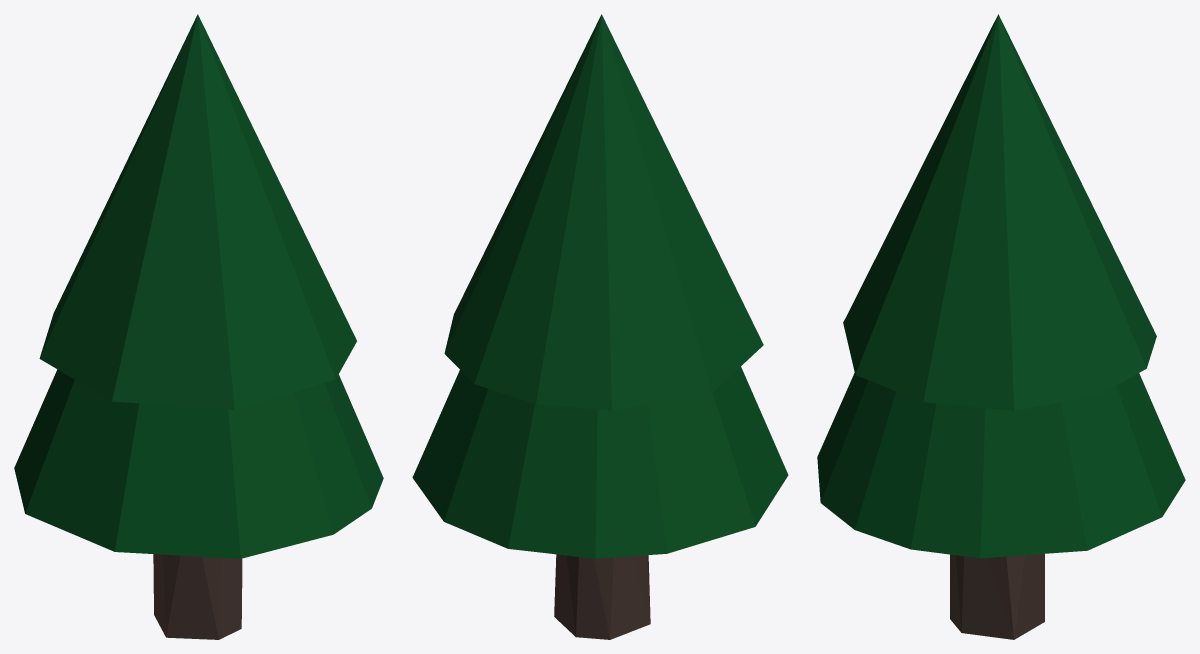
The model's file is TREEEEEEEEEEE.fbx.
3 renders of one model, left to right at view 1: azimuth 30°, elevation 25°; view 2: azimuth 150°, elevation 25°; view 3: azimuth 270°, elevation 25°, orthographic.
Parts seen in each view (by area): view 1: Cone.002, Cylinder; view 2: Cone.002, Cylinder; view 3: Cone.002, Cylinder.
Boxes of the visible parts, x1,y1,x2,y2 form: Cone.002: (14, 14, 383, 558); Cylinder: (153, 554, 242, 639); Cone.002: (412, 14, 788, 558); Cylinder: (554, 554, 650, 639); Cone.002: (817, 14, 1185, 558); Cylinder: (950, 554, 1044, 639).
Bounding box in the file's own units: 251 × 449 × 247.
